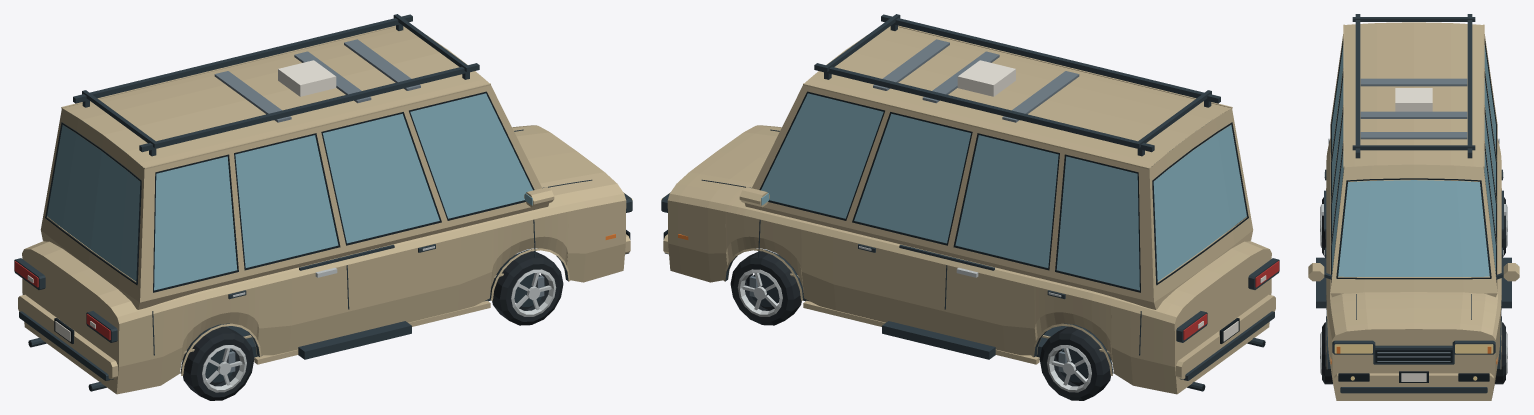
File: b03_highroof_passenger_van.glb
3 views of the same model, side by side, from view 1: azimuth 30°, elevation 25°; view 2: azimuth 150°, elevation 25°; view 3: azimuth 270°, elevation 25° (orthographic). The views are drawn at different scales.
Visible parts, largest first — view 1: b03_highroof_passenger_van; view 2: b03_highroof_passenger_van; view 3: b03_highroof_passenger_van.
Part boxes in pixels (x1,y1,x2,y2): b03_highroof_passenger_van: (14,14,632,400); b03_highroof_passenger_van: (661,14,1279,400); b03_highroof_passenger_van: (1308,14,1519,400).
Bounding box in the file's own units: 6.15 × 2.86 × 2.53.
